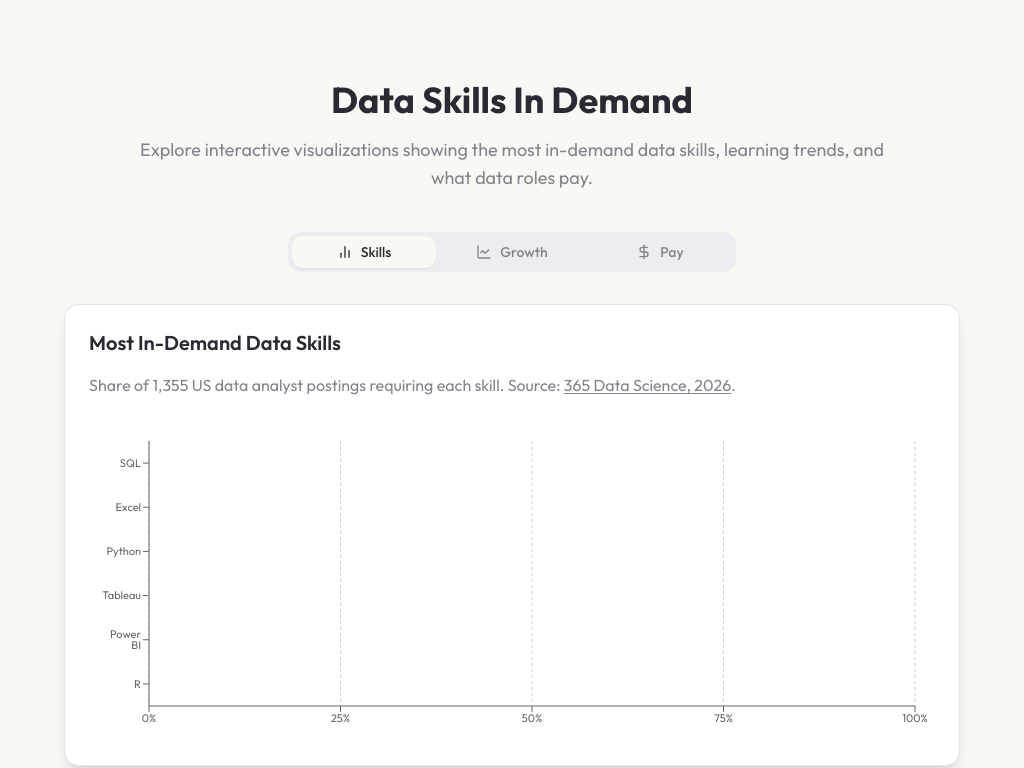
it: InteractiveShowcase › credits the wage figures to BLS and dates them
Click the tab "Pay" at (660, 252), box left=588, top=236, right=732, bottom=268
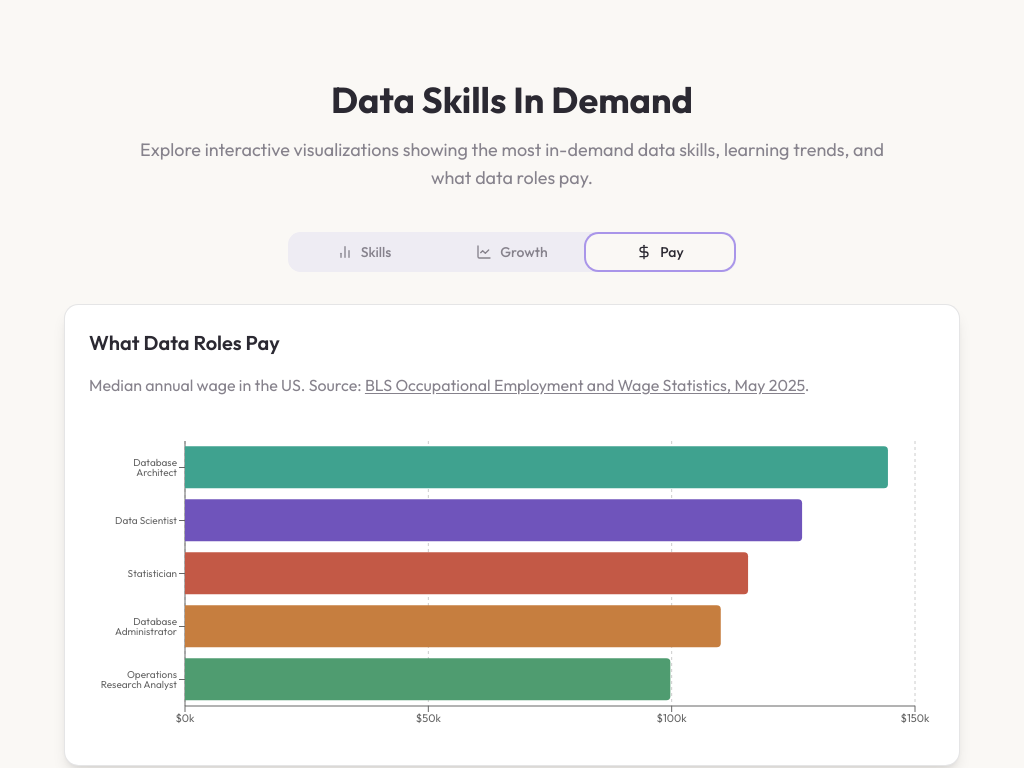
Expected: the text "Median annual wage in the US" is shown, left=89, top=375, right=362, bottom=395
